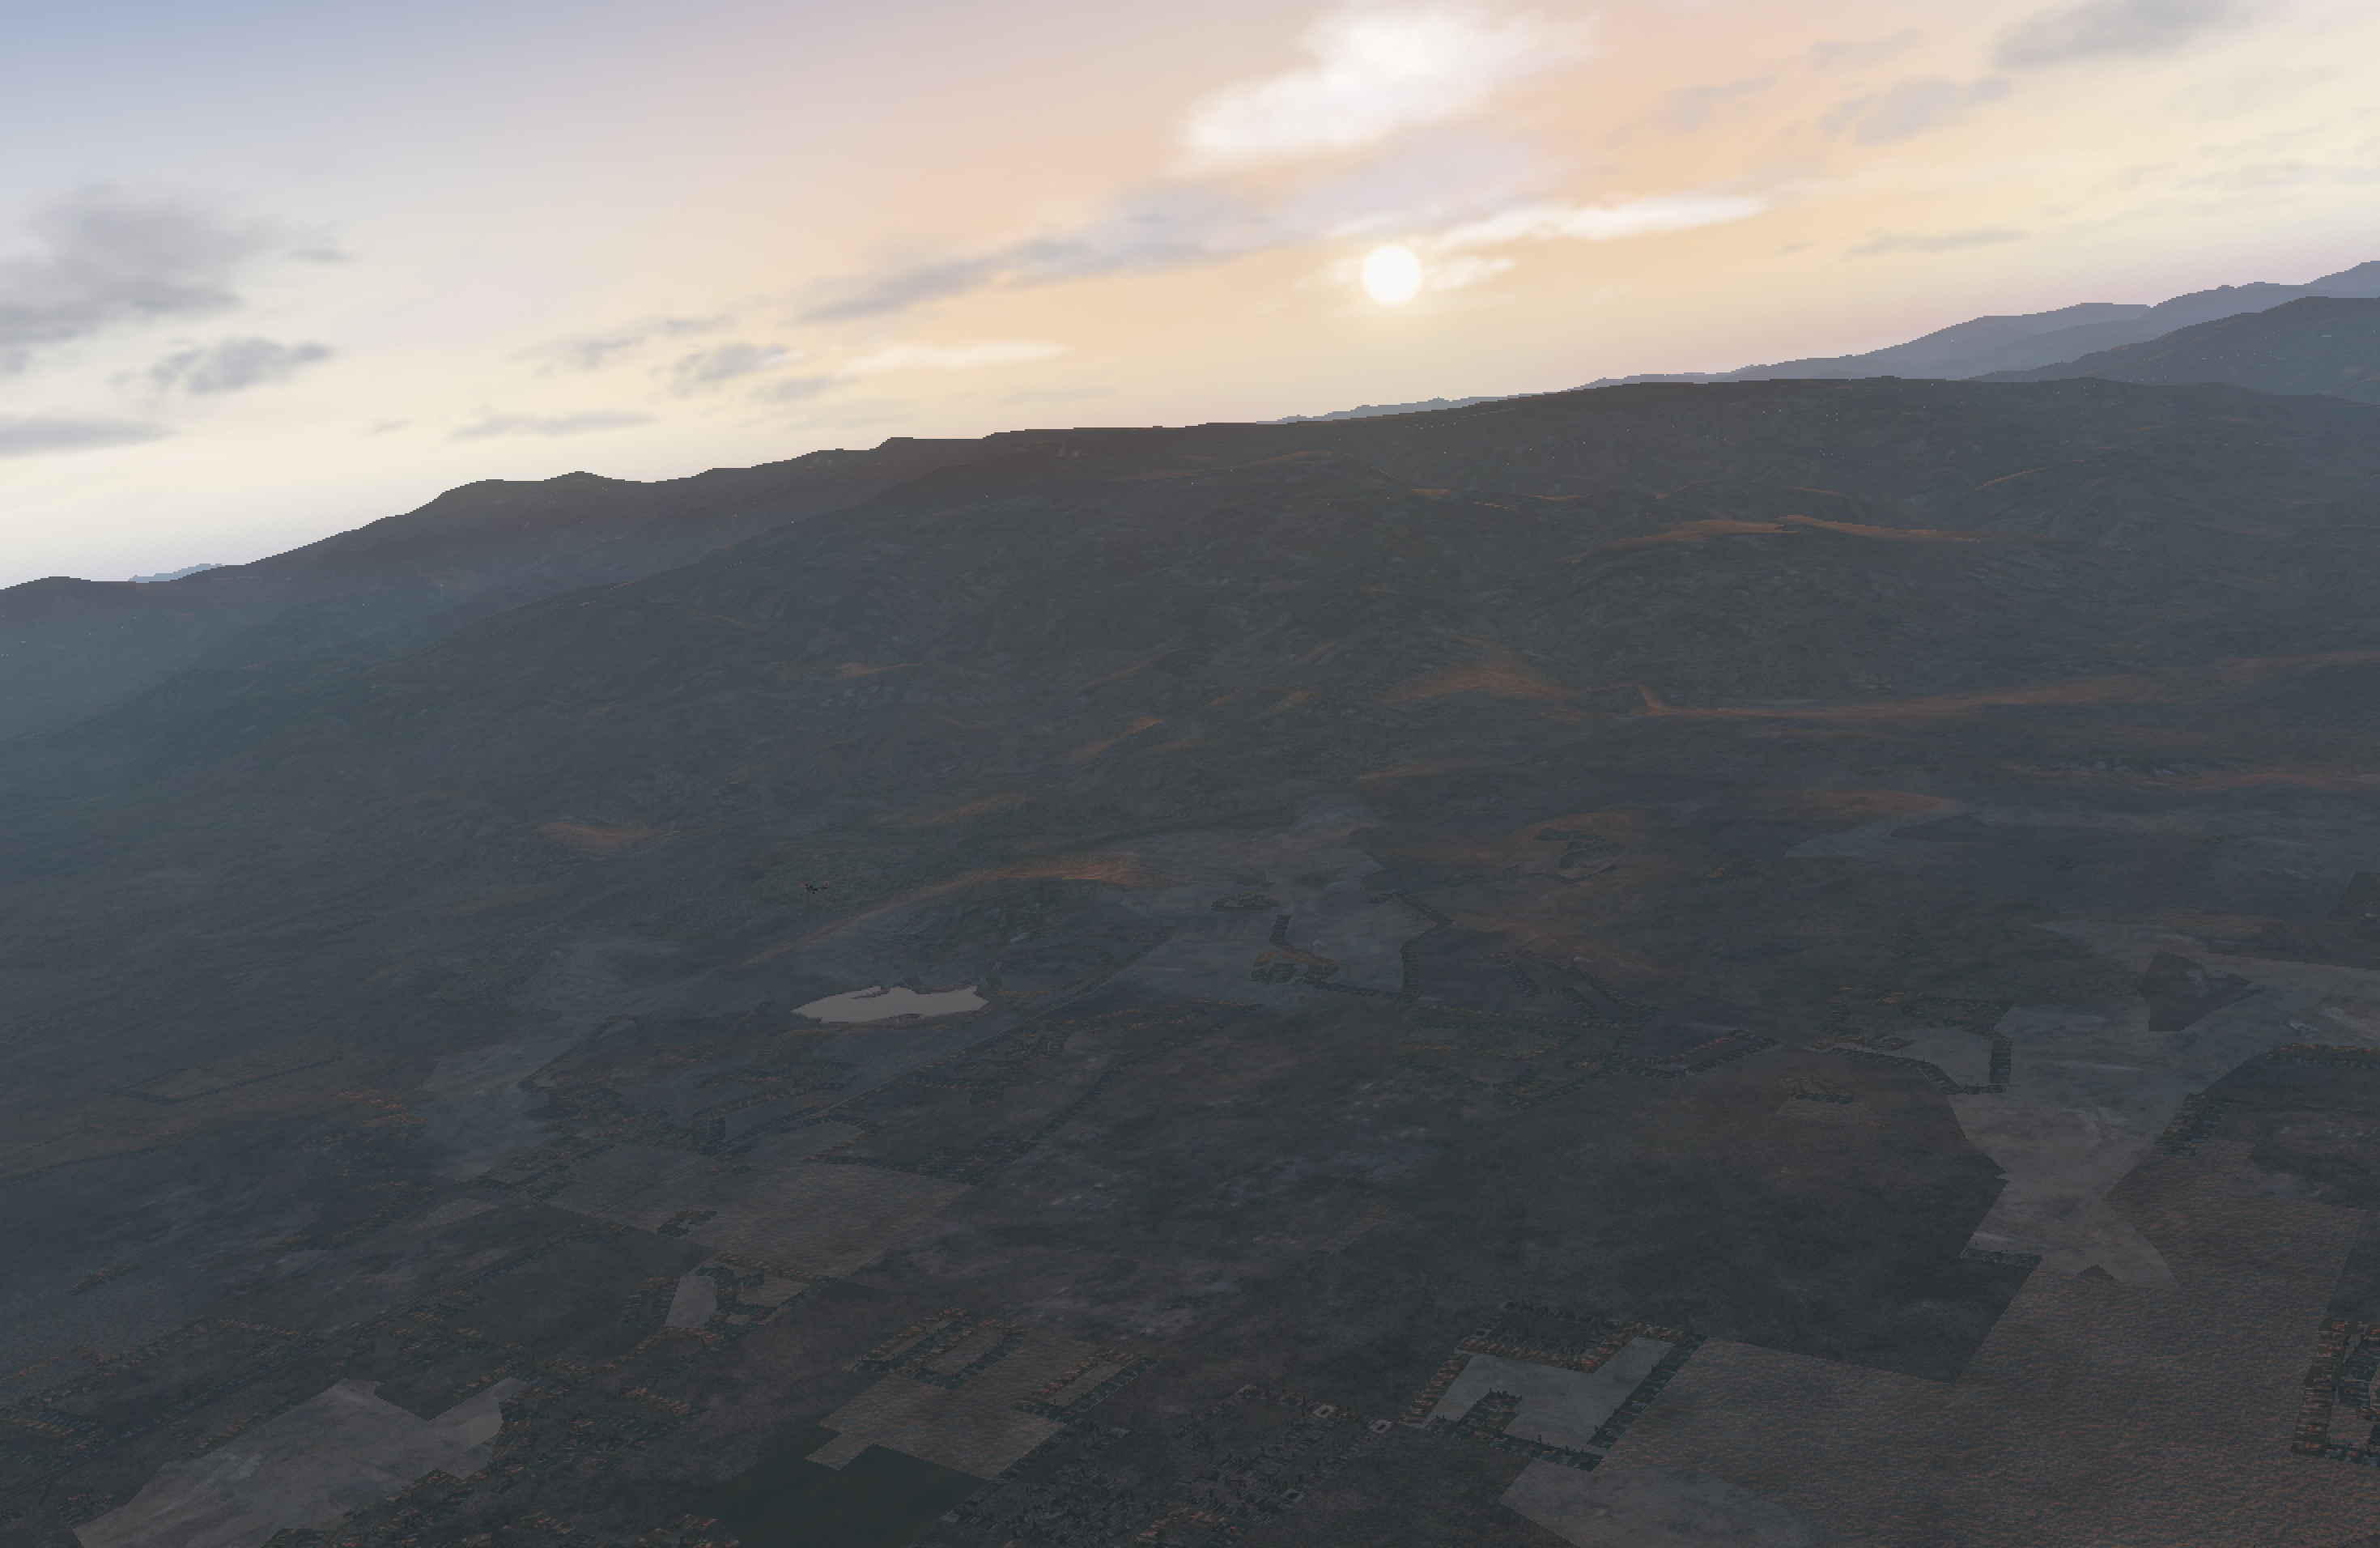aircraft: (800, 883, 824, 894)
